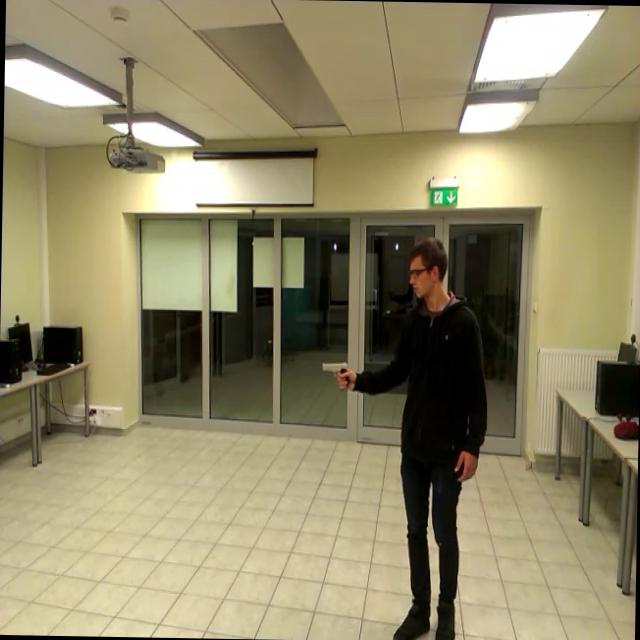handgun: (309, 344, 362, 402)
